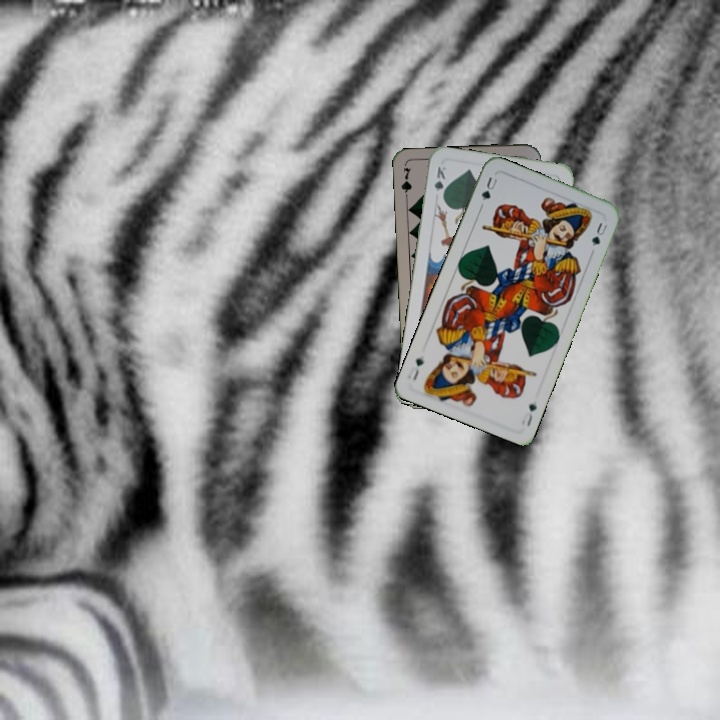G7: (397, 163, 414, 204)
GK: (430, 162, 449, 202)
GU: (477, 173, 500, 203), (518, 399, 539, 429)
